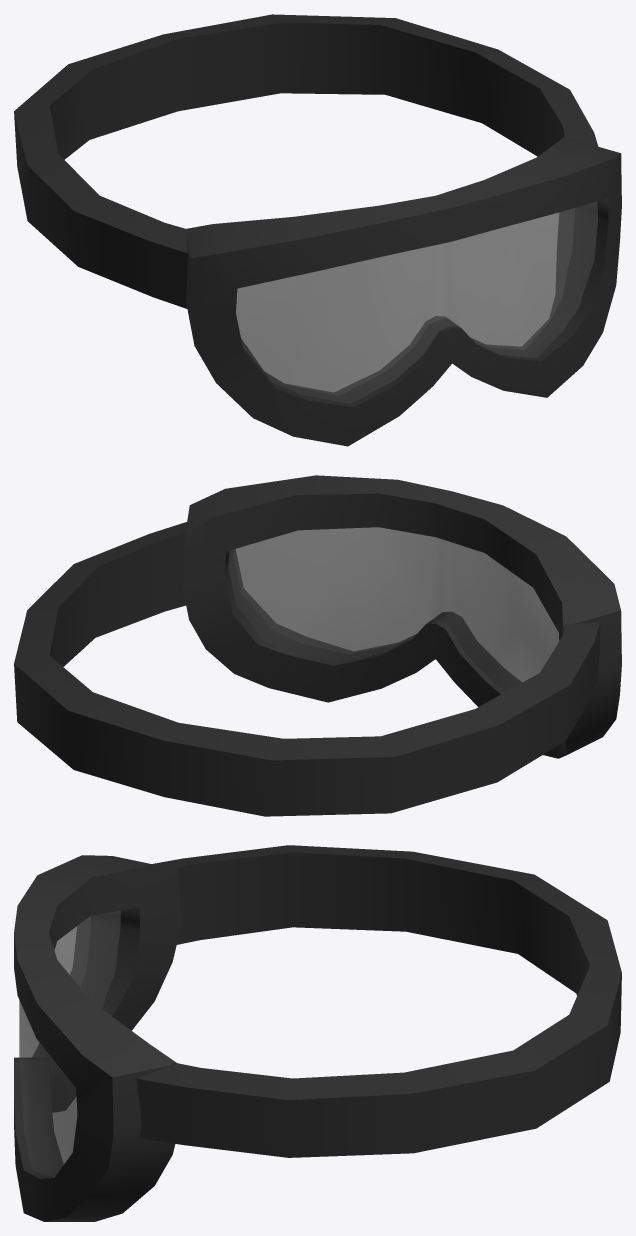
The model's file is Eyewear_13.fbx.
3 renders of one model, top to bottom at view 1: azimuth 30°, elevation 25°; view 2: azimuth 150°, elevation 25°; view 3: azimuth 270°, elevation 25°, orthographic. The views are drawn at different scales.
Parts seen in each view (by area): view 1: Eyewear_13; view 2: Eyewear_13; view 3: Eyewear_13.
Boxes of the visible parts, x1=… form: Eyewear_13: x1=14, y1=14, x2=621, y2=446; Eyewear_13: x1=14, y1=475, x2=621, y2=816; Eyewear_13: x1=14, y1=845, x2=621, y2=1221.
Size of the model in its own units: 58.37 by 24.46 by 58.81.
